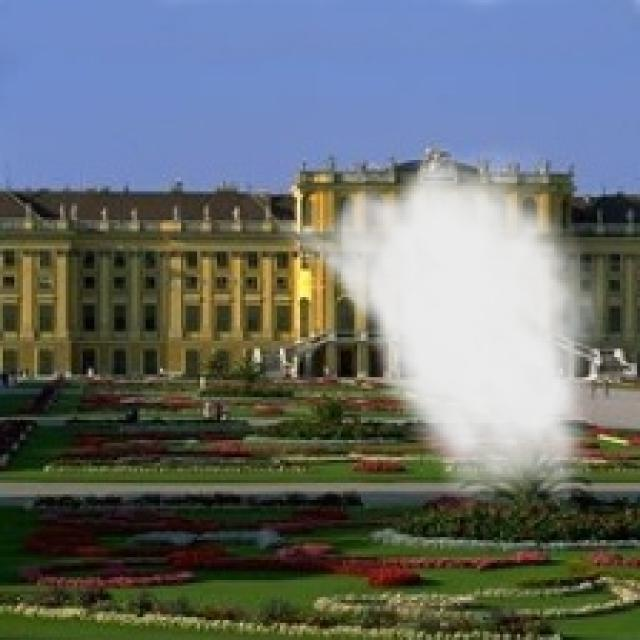smoke: (266, 140, 608, 520)
